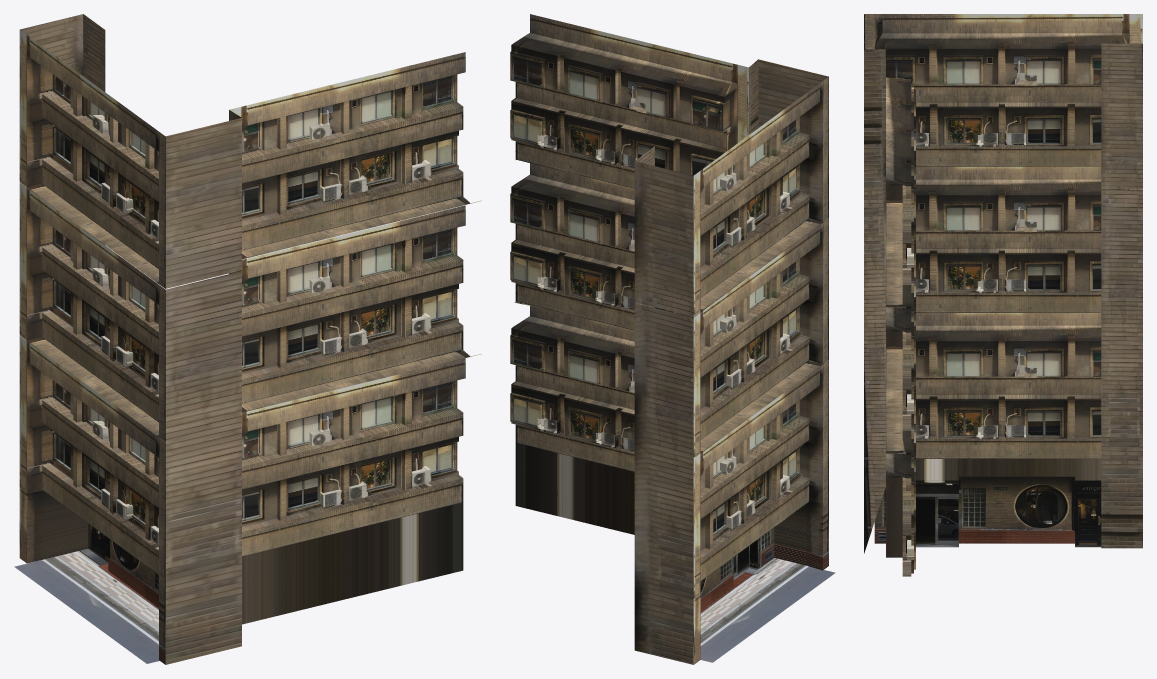
3 views of the same model, side by side, from view 1: azimuth 30°, elevation 25°; view 2: azimuth 150°, elevation 25°; view 3: azimuth 270°, elevation 25° (orthographic). The views are drawn at different scales.
Visible parts, largest first — view 1: 2 (1).005; view 2: 2 (1).005; view 3: 2 (1).005.
Boxes of the visible parts, box(x1,y1,x2,y2) form: 2 (1).005: box(14, 14, 481, 664); 2 (1).005: box(510, 14, 835, 664); 2 (1).005: box(864, 14, 1142, 576).
Size of the model in its own units: 0.9095 by 1.35 by 0.6748.
1 material, 1 textured.
